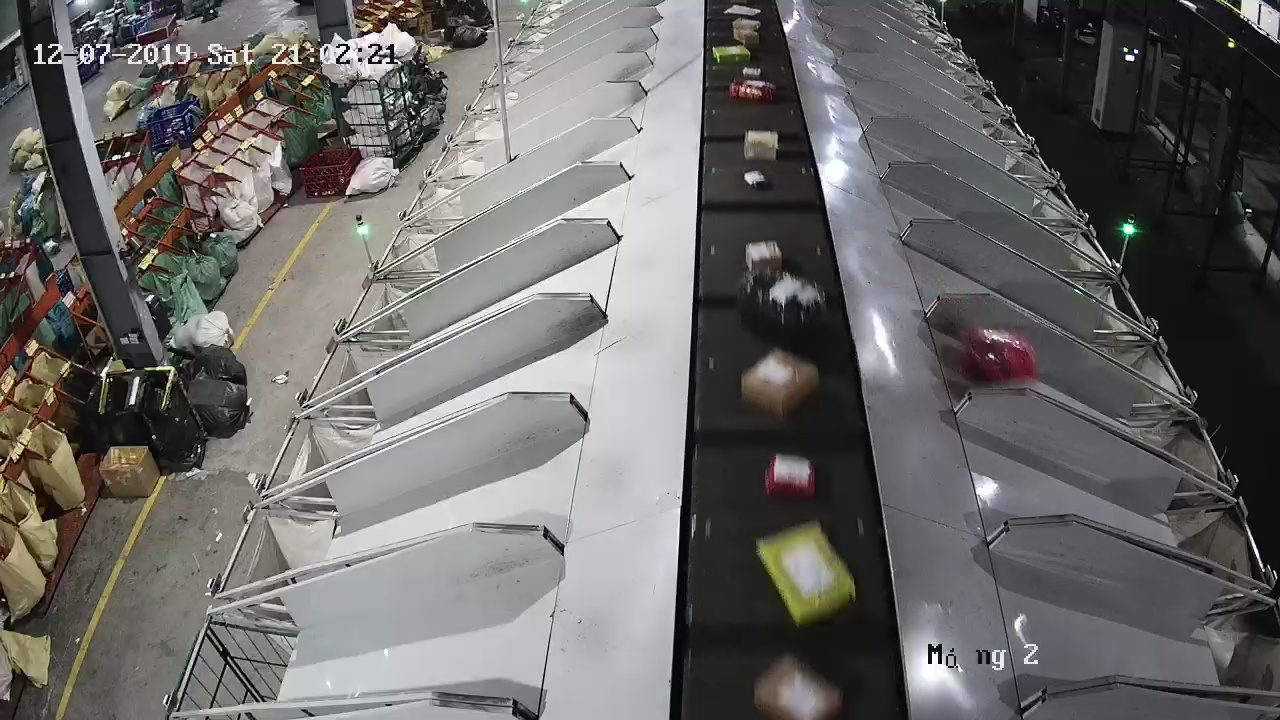parcel: (958, 326, 1039, 384)
